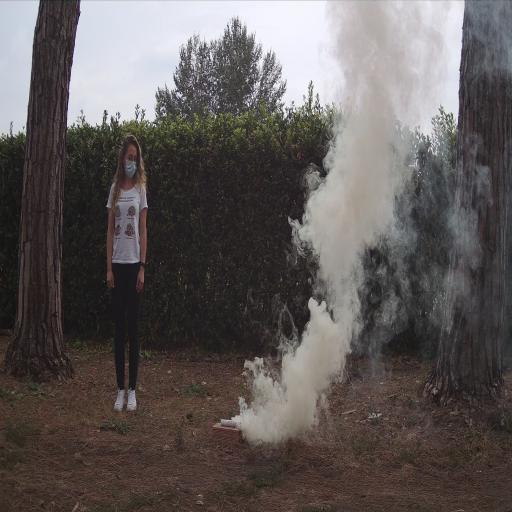leakage: (217, 1, 512, 458)
